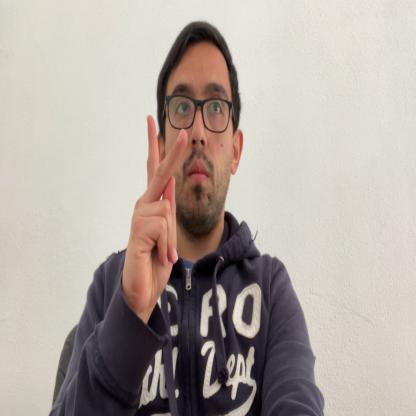P: (121, 114, 187, 324)
